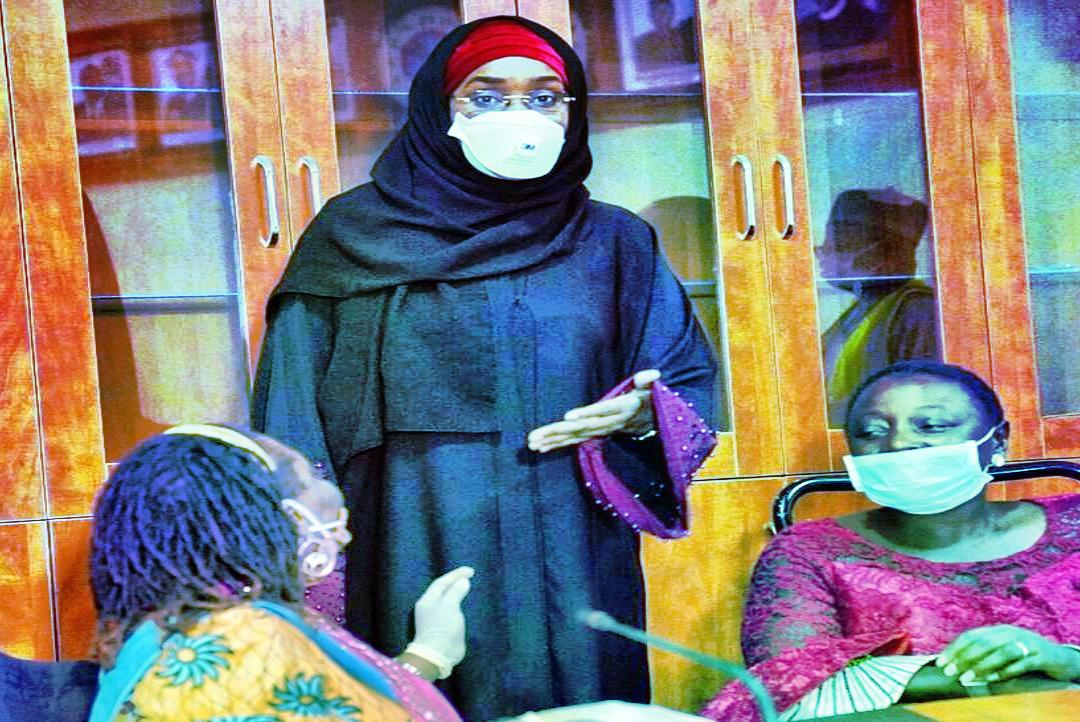mask_weared_incorrect: (841, 364, 1009, 517)
